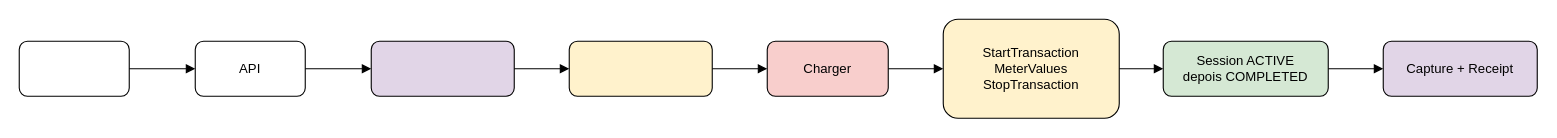
Image size: 1557x138. Some labels were removed from this diagram. Each missing label, with the centre of its shape:
"Billing authorize/hold" belongs at pixel 442 68.
"Driver" belongs at pixel 73 68.
"OCPP RemoteStart" belongs at pixel 640 68.
